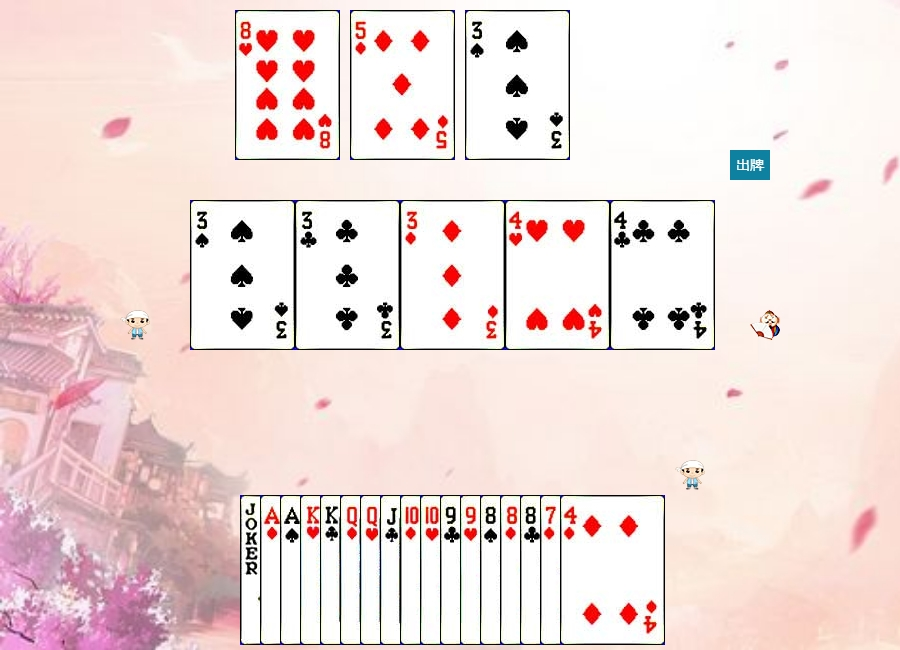10~1: (400, 495, 505, 645)
10~3: (420, 495, 525, 645)
11~2: (380, 495, 485, 645)
12~1: (340, 495, 445, 645)
12~3: (360, 495, 465, 645)
13~2: (320, 495, 425, 645)
13~3: (300, 495, 405, 645)
14~1: (260, 495, 365, 645)
14~4: (280, 495, 385, 645)
17~3: (240, 495, 345, 645)
3~1: (400, 200, 505, 350)
3~2: (295, 200, 400, 350)
3~4: (465, 10, 570, 160), (190, 200, 295, 350)
4~1: (560, 495, 665, 645)
4~2: (610, 200, 715, 350)
4~3: (505, 200, 610, 350)
5~1: (350, 10, 455, 160)
7~1: (540, 495, 645, 645)
8~1: (500, 495, 605, 645)
8~2: (520, 495, 625, 645)
8~3: (235, 10, 340, 160)
8~4: (480, 495, 585, 645)
9~2: (440, 495, 545, 645)
9~3: (460, 495, 565, 645)
